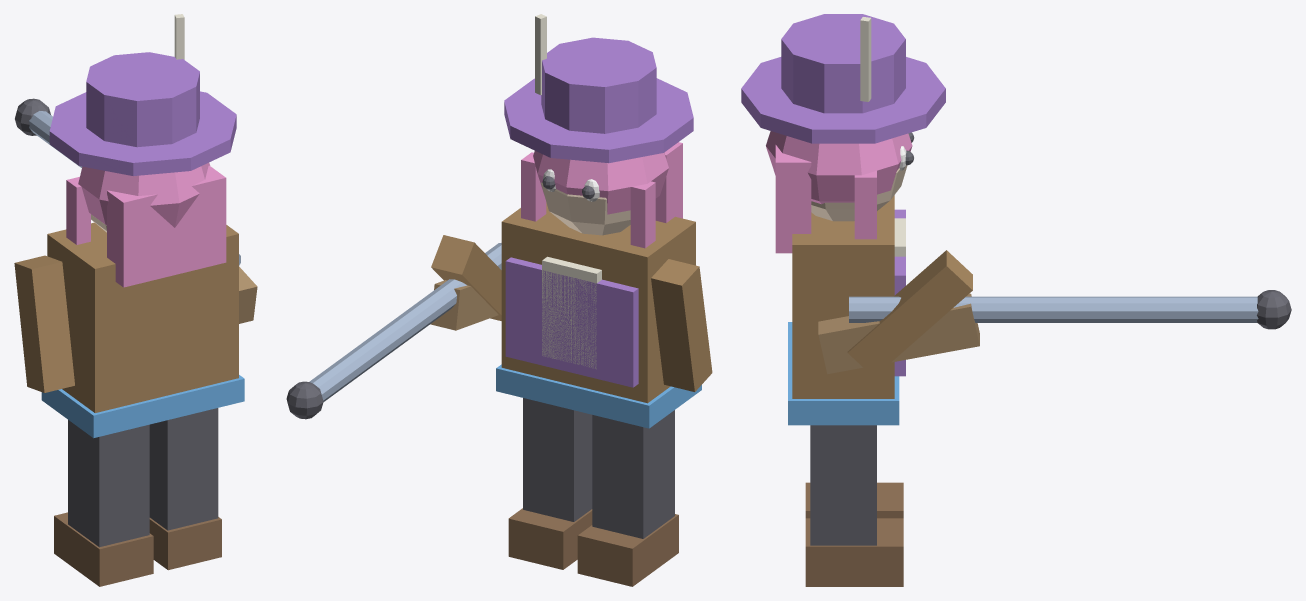
File: musketeer.glb
The picture shows the model from 3 angles, left to right: view 1: azimuth 30°, elevation 25°; view 2: azimuth 150°, elevation 25°; view 3: azimuth 270°, elevation 25°; orthographic projection. The views are drawn at different scales.
Parts seen in each view (by area): view 1: musketeer; view 2: musketeer; view 3: musketeer.
Boxes of the visible parts, <box> form: musketeer: <box>14,14,257,586</box>; musketeer: <box>286,14,712,586</box>; musketeer: <box>741,14,1291,586</box>.
Size of the model in its own units: 1.17 by 2.78 by 2.48.
